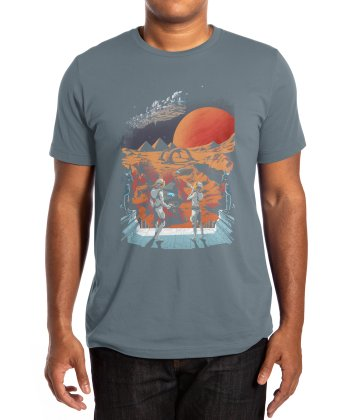design: (116, 82, 238, 253)
